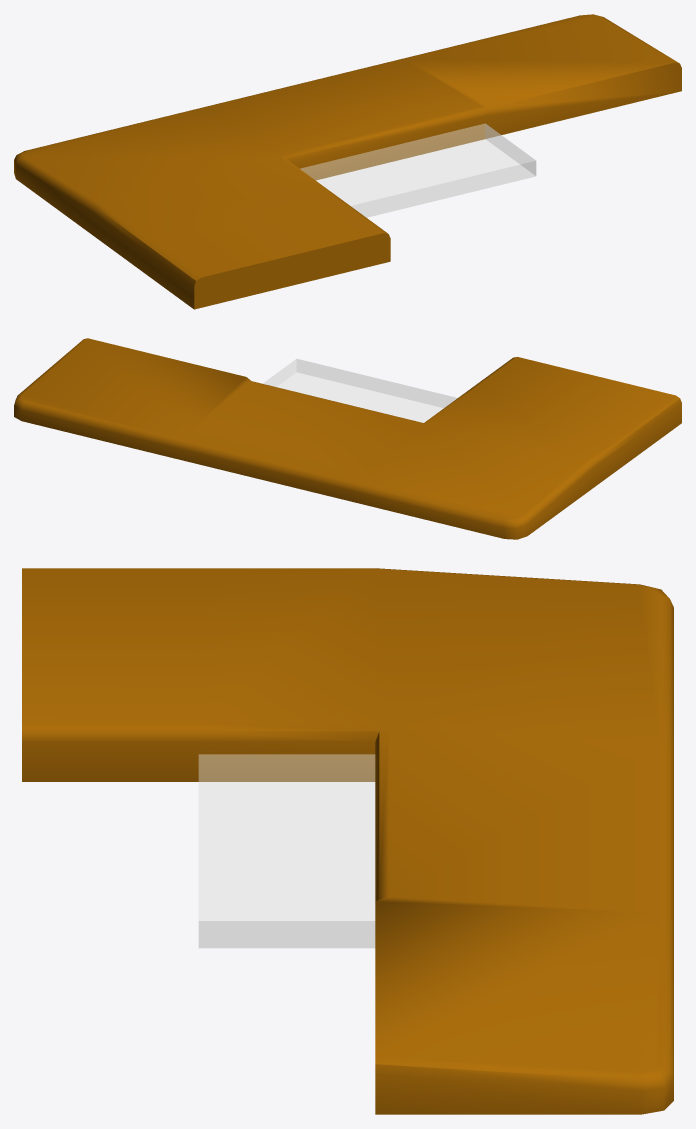
File: Container Box Lid Half.fbx
3 views of the same model, one above another, from view 1: azimuth 30°, elevation 25°; view 2: azimuth 150°, elevation 25°; view 3: azimuth 270°, elevation 25° (orthographic). The views are drawn at different scales.
Visible parts, largest first — view 1: Container Box Lid Half; view 2: Container Box Lid Half; view 3: Container Box Lid Half.
Part boxes in pixels (x1,y1,x2,y2): Container Box Lid Half: (14,14,681,309); Container Box Lid Half: (14,338,681,539); Container Box Lid Half: (22,568,673,1114).
Size of the model in its own units: 58.78 by 2.88 by 32.44.
